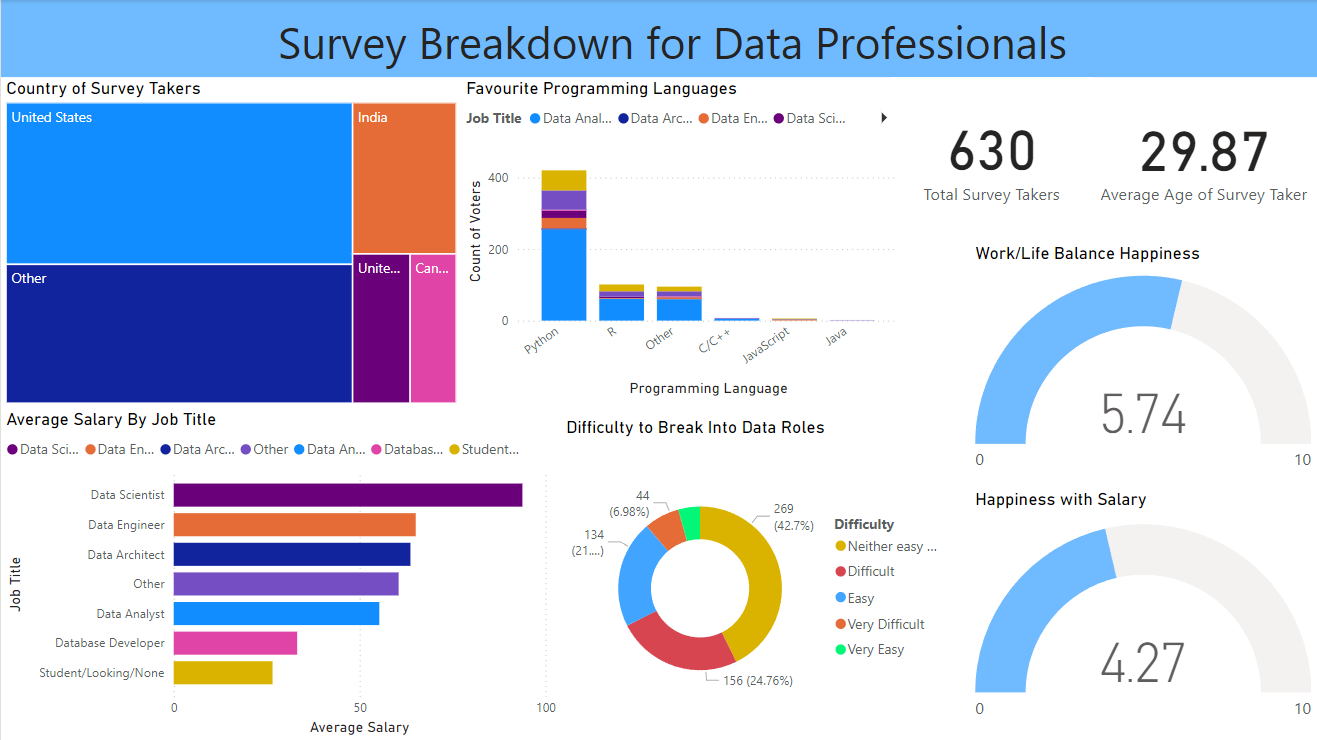

The page's visual inventory and layout, read from the dashboard file:
{"tool":"powerbi","page":{"name":"Page 1","canvas":[1280,720],"ordinal":0},"visuals":[{"type":"textbox","box":[0,0,1280,74.9],"z":0},{"type":"card","fields":{"Values":["CountNonNull(Data Professional Survey.Unique ID)"]},"box":[866.8,75.1,193.7,150.2],"z":1000},{"type":"card","fields":{"Values":["Avg(Data Professional Survey.Q10 - Current Age)"]},"box":[1060.6,76.1,219.4,149.3],"z":2000},{"type":"barChart","title":"Average Salary By Job Title","fields":{"Category":["Data Professional Survey.Q1 - Which Title Best Fits your Current Role?.1"],"Y":["Avg(Data Professional Survey.Average Salary)"],"Series":["Data Professional Survey.Q1 - Which Title Best Fits your Current Role?.1"]},"box":[0,397.3,544.6,322.2],"z":3000},{"type":"columnChart","title":"Favourite Programming Languages","fields":{"Category":["Data Professional Survey.Q5 - Favorite Programming Language.1"],"Y":["CountNonNull(Data Professional Survey.Unique ID)"],"Series":["Data Professional Survey.Q1 - Which Title Best Fits your Current Role?.1"]},"box":[447.8,76.1,430.9,314.3],"z":4000},{"type":"treemap","title":"Country of Survey Takers","fields":{"Group":["Data Professional Survey.Q11 - Which Country do you live in?.1"],"Values":["CountNonNull(Data Professional Survey.Q11 - Which Country do you live in?.1)"]},"box":[0,76.1,447.8,321.2],"z":5000},{"type":"gauge","title":"Happiness with Salary","fields":{"Y":["Avg(Data Professional Survey.Q6 - How Happy are you in your Current Position with the following? (Salary))"],"MinValue":["Min(Data Professional Survey.Q6 - How Happy are you in your Current Position with the following? (Salary))"],"MaxValue":["Max(Data Professional Survey.Q6 - How Happy are you in your Current Position with the following? (Salary))"]},"box":[942.9,475.4,337.1,244.1],"z":5001},{"type":"gauge","title":"Work/Life Balance Happiness","fields":{"Y":["Avg(Data Professional Survey.Q6 - How Happy are you in your Current Position with the following? (Work/Life Balance))"],"MinValue":["Min(Data Professional Survey.Q6 - How Happy are you in your Current Position with the following? (Work/Life Balance))1"],"MaxValue":["Max(Data Professional Survey.Q6 - How Happy are you in your Current Position with the following? (Work/Life Balance))2"]},"box":[942.9,236.2,337.1,239.2],"z":5002},{"type":"donutChart","title":"Difficulty to Break Into Data Roles","fields":{"Category":["Data Professional Survey.Q7 - How difficult was it for you to break into Data?"],"Y":["CountNonNull(Data Professional Survey.Q7 - How difficult was it for you to break into Data?)"]},"box":[544.6,405.3,383.5,314.3],"z":5003}]}

Visuals, with their boxes in screenshot pixels (x1, y1, x2, y2), scaled from the page's 1280x720 canvas onto the 1317x740 screenshot:
textbox: left=0, top=0, right=1316, bottom=77
card - CountNonNull(Data Professional Survey.Unique ID): left=892, top=77, right=1091, bottom=232
card - Avg(Data Professional Survey.Q10 - Current Age): left=1091, top=78, right=1316, bottom=232
"Average Salary By Job Title" barChart: left=0, top=408, right=560, bottom=739
"Favourite Programming Languages" columnChart: left=461, top=78, right=904, bottom=401
"Country of Survey Takers" treemap: left=0, top=78, right=461, bottom=408
"Happiness with Salary" gauge: left=970, top=489, right=1316, bottom=739
"Work/Life Balance Happiness" gauge: left=970, top=243, right=1316, bottom=489
"Difficulty to Break Into Data Roles" donutChart: left=560, top=417, right=955, bottom=739
